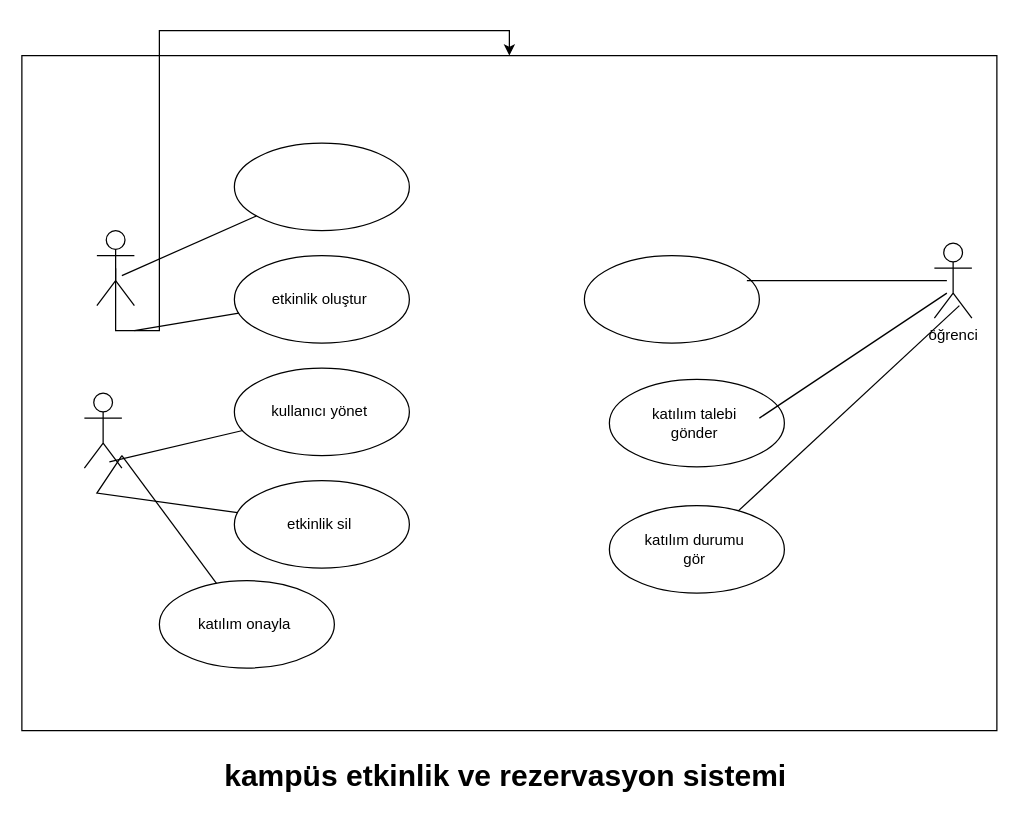
Image size: 1019x838. Some labels were removed from this diagram. Here are the shapes that lost their labels. From the top down, the centre of each, then its label:
[321,186]: katılıımcı listele
[115,267]: kulüp sorumlusu
[671,298]: etkinlikleri görüntüle
[102,430]: admin
